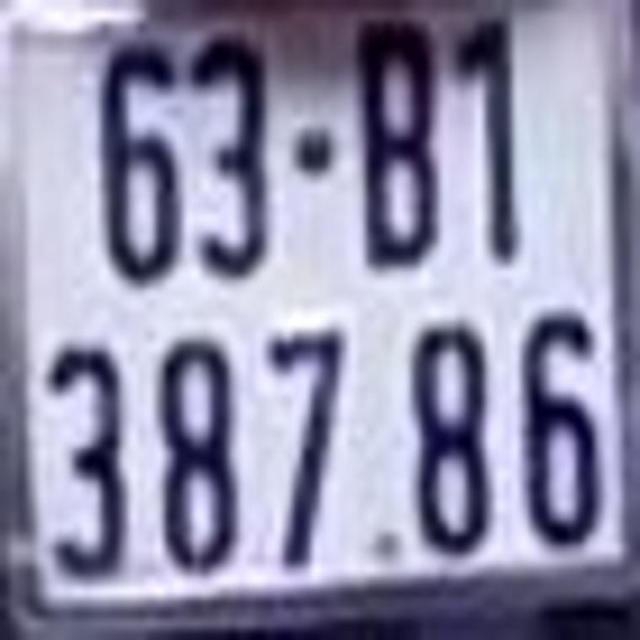1: (452, 4, 527, 270)
3: (40, 339, 132, 576), (188, 29, 272, 282)
6: (517, 300, 605, 550), (100, 39, 184, 284)
7: (404, 314, 500, 556), (264, 324, 346, 570)
8: (154, 334, 239, 580)
B: (348, 11, 444, 274)
